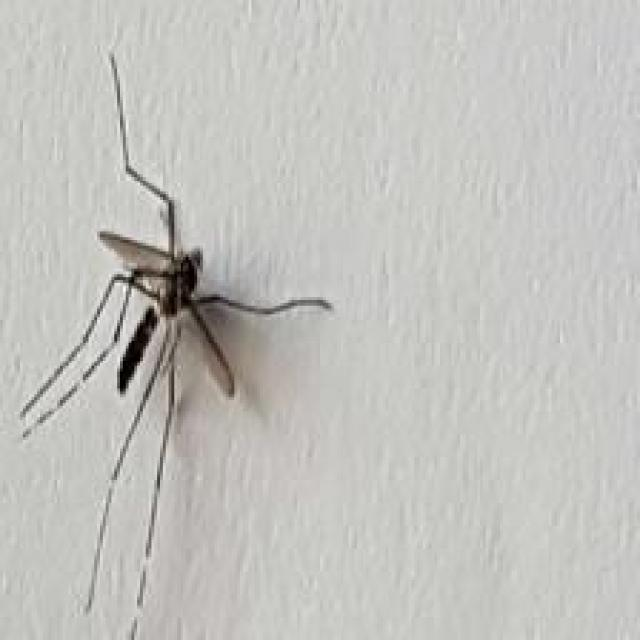Aedes albopictus: (17, 48, 334, 640)
